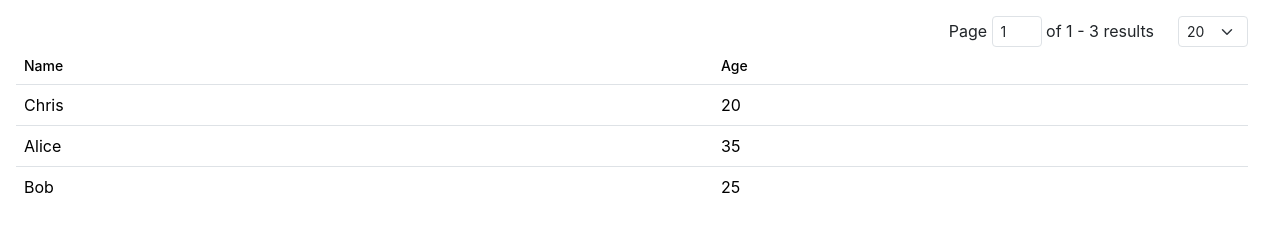
Test: sorts table when clicking header
The width and height of the screenshot is (1265, 225).
Note: Click on "Name" header to trigger sorting
Click the column heading "Name" at (364, 66), box left=16, top=47, right=713, bottom=85
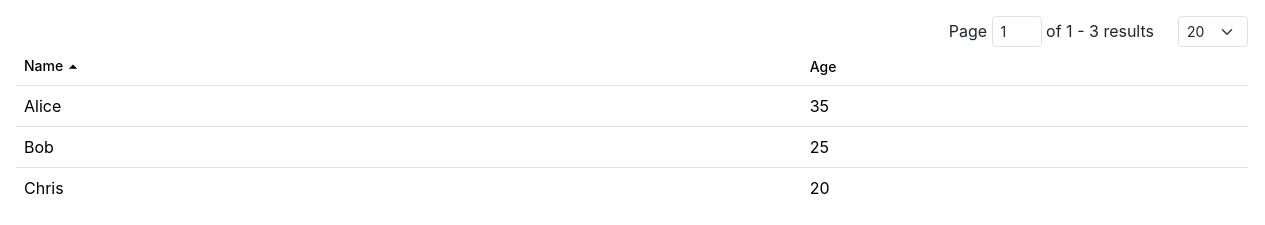
Expected: the row "Alice 35" is shown, left=16, top=86, right=1248, bottom=127
Expected: the row "Bob 25" is shown, left=16, top=127, right=1248, bottom=168
Expected: the row "Chris 20" is shown, left=16, top=168, right=1248, bottom=208
Note: Click on "Age" header to trigger sorting
Click the column heading "Age" at (1025, 67), box left=802, top=47, right=1248, bottom=86
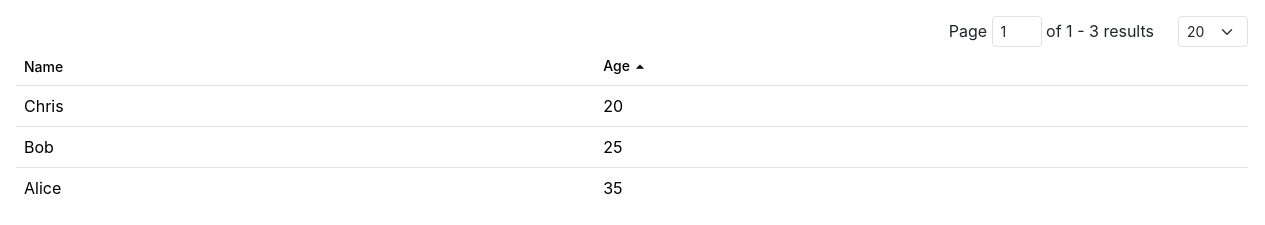
Expected: the row "Bob 25" is shown, left=16, top=127, right=1248, bottom=168
Expected: the row "Chris 20" is shown, left=16, top=86, right=1248, bottom=127
Expected: the row "Alice 35" is shown, left=16, top=168, right=1248, bottom=208
